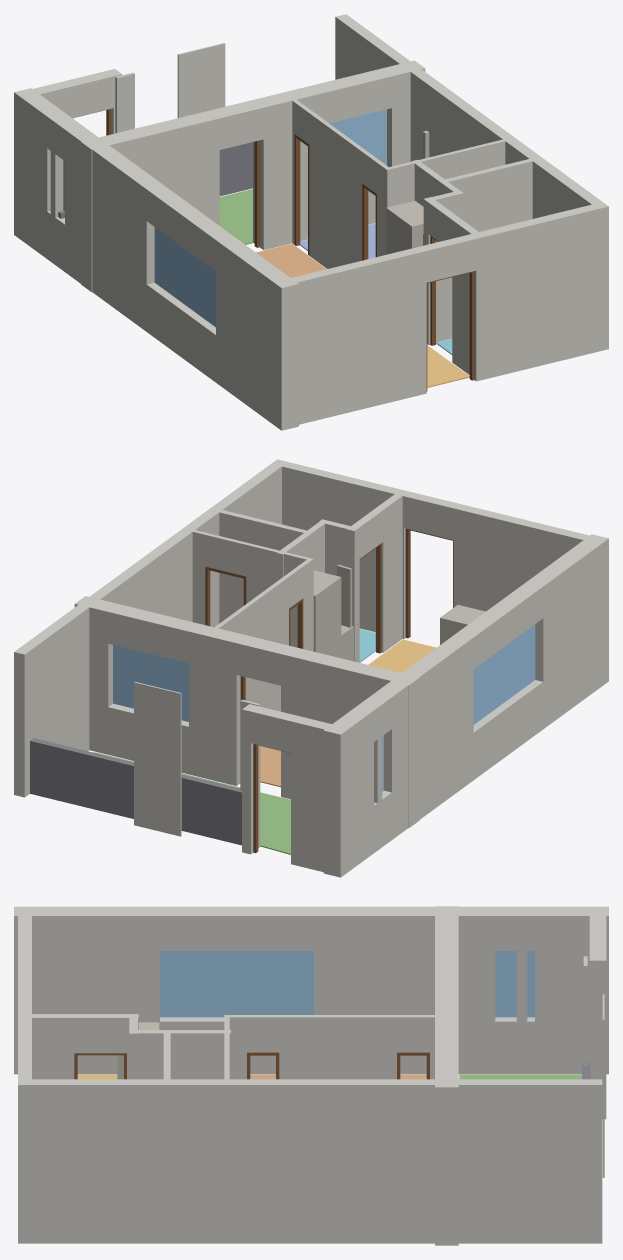
The picture shows the model from 3 angles, top to bottom: view 1: azimuth 30°, elevation 25°; view 2: azimuth 150°, elevation 25°; view 3: azimuth 270°, elevation 25°; orthographic projection. The views are drawn at different scales.
Visible parts, largest first — view 1: walls, window_3, furniture_1_closet, window_0, railings, floor_6_Outdoor, floor_0_Living_Room, door_7, floor_2_Kitchen, door_1, door_9, door_2; view 2: walls, railings, window_3, window_0, furniture_1_closet, floor_6_Outdoor, floor_2_Kitchen, furniture_6_appliance, door_1, floor_0_Living_Room, furniture_2_closet, door_4 (+2 smaller); view 3: walls, window_3, window_8, floor_6_Outdoor, window_10.
Part boxes in pixels (box(x1,y1,x2,y2)): walls: box(14, 14, 608, 430); window_3: box(154, 227, 215, 327); furniture_1_closet: box(386, 201, 423, 254); window_0: box(329, 109, 386, 165); railings: box(58, 142, 252, 218); floor_6_Outdoor: box(219, 189, 253, 244); floor_0_Living_Room: box(256, 244, 326, 277); door_7: box(294, 134, 309, 255); floor_2_Kitchen: box(427, 345, 469, 387); door_1: box(426, 271, 474, 391); door_9: box(362, 184, 376, 260); door_2: box(254, 140, 259, 247); walls: box(14, 459, 608, 877); railings: box(30, 738, 374, 845); window_3: box(473, 624, 535, 724); window_0: box(113, 645, 188, 721); furniture_1_closet: box(313, 570, 341, 658); floor_6_Outdoor: box(93, 752, 290, 854); floor_2_Kitchen: box(368, 639, 436, 672); furniture_6_appliance: box(440, 605, 485, 644); door_1: box(405, 528, 453, 638); floor_0_Living_Room: box(260, 746, 280, 787); furniture_2_closet: box(337, 564, 351, 627); door_4: box(359, 543, 381, 653); walls: box(14, 906, 608, 1245); window_3: box(160, 951, 313, 1017); window_8: box(495, 951, 516, 1017); floor_6_Outdoor: box(459, 1074, 581, 1079); window_10: box(527, 951, 534, 1017).
Size of the model in its own units: 6.61 by 2.72 by 9.18.
